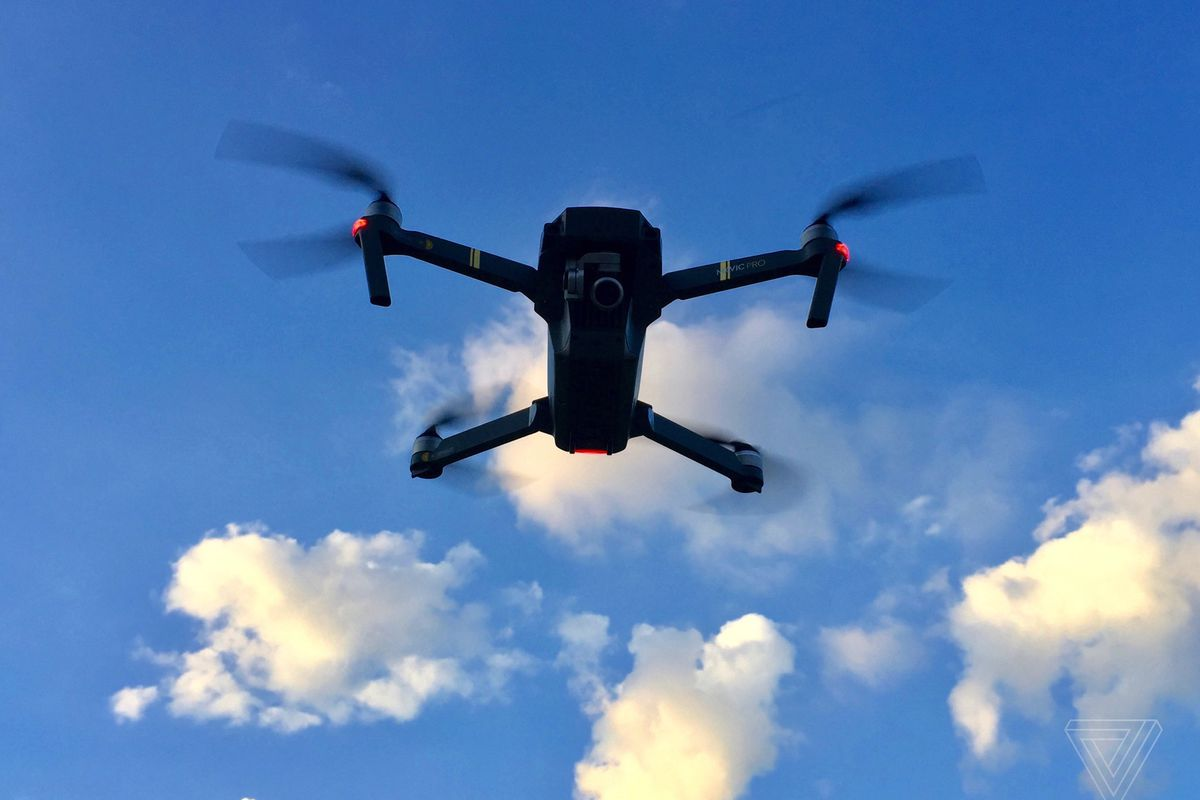drone: (313, 119, 883, 506)
